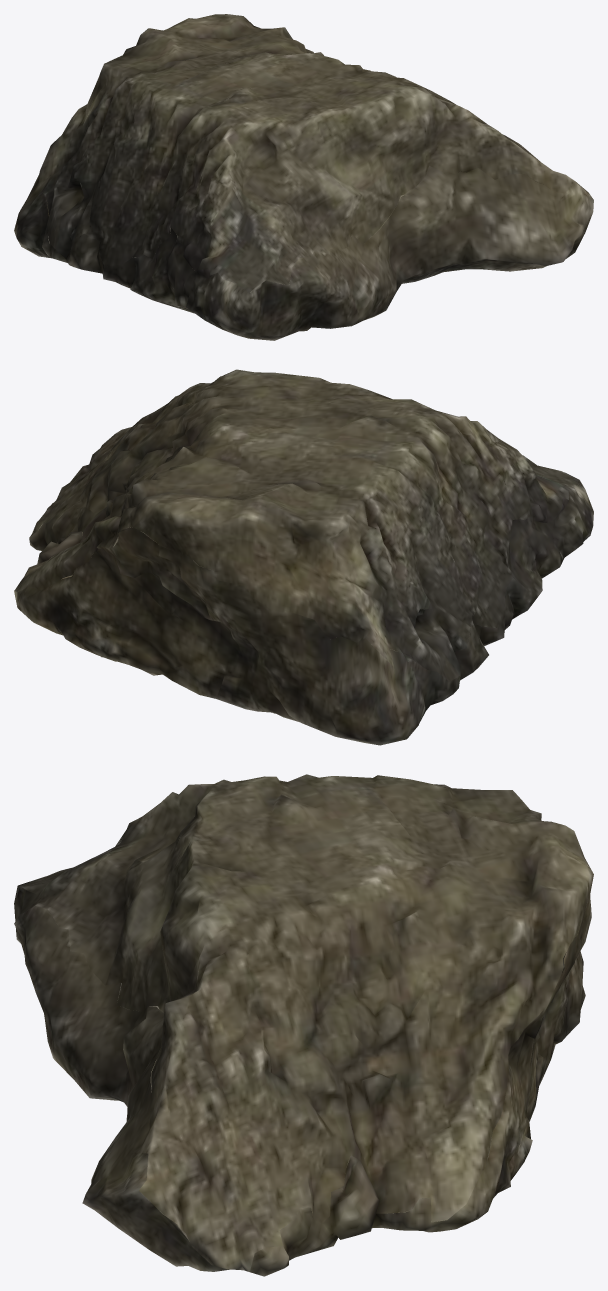
The picture shows the model from 3 angles, top to bottom: view 1: azimuth 30°, elevation 25°; view 2: azimuth 150°, elevation 25°; view 3: azimuth 270°, elevation 25°; orthographic projection. The views are drawn at different scales.
Parts seen in each view (by area): view 1: rock_moss_set_02_rock08; view 2: rock_moss_set_02_rock08; view 3: rock_moss_set_02_rock08.
Boxes of the visible parts, left/top/right/bottom form: rock_moss_set_02_rock08: left=14, top=14, right=593, bottom=340; rock_moss_set_02_rock08: left=14, top=369, right=593, bottom=745; rock_moss_set_02_rock08: left=14, top=774, right=593, bottom=1276.
Size of the model in its own units: 1.21 by 0.5271 by 0.9835.
Materials: 1 (1 with a texture image).
